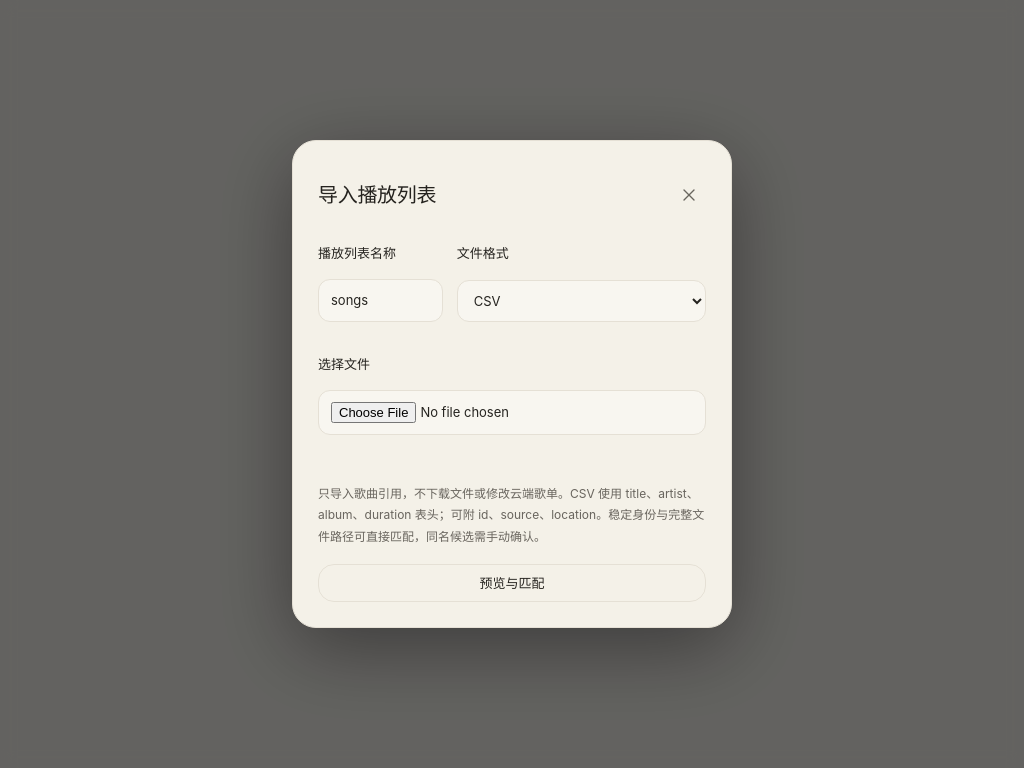
Test: 导入只自动选择准确身份，候选需手动确认，失败可保留选择重试
This screenshot has width=1024, height=768.
Earlier steps of the test are not shown.
Later steps or results of the test are not shown.
Click the button "预览与匹配" at (512, 583), box [318, 564, 706, 602]
(page scrolled)
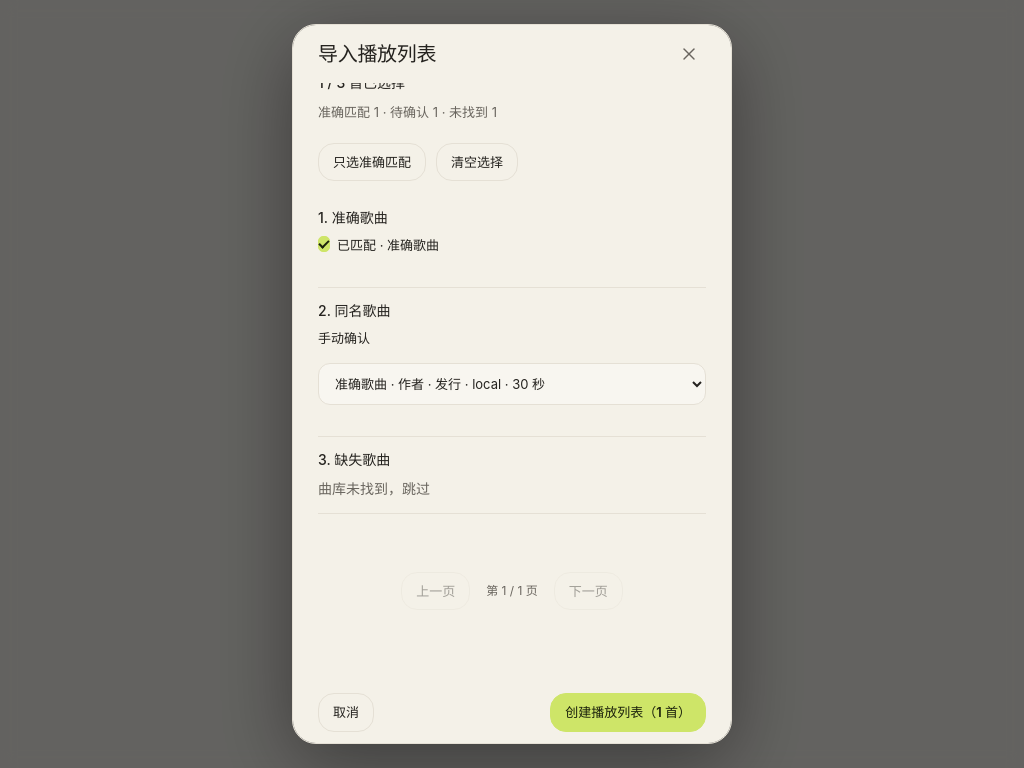
Expected: the text "1 / 3 首已选择" is shown, [318, 74, 405, 92]
Select "准确歌曲 · 作者 · 发行 · local · 30 秒" in the dropdown named "确认第 2 首" at (512, 384), box [318, 363, 706, 405]
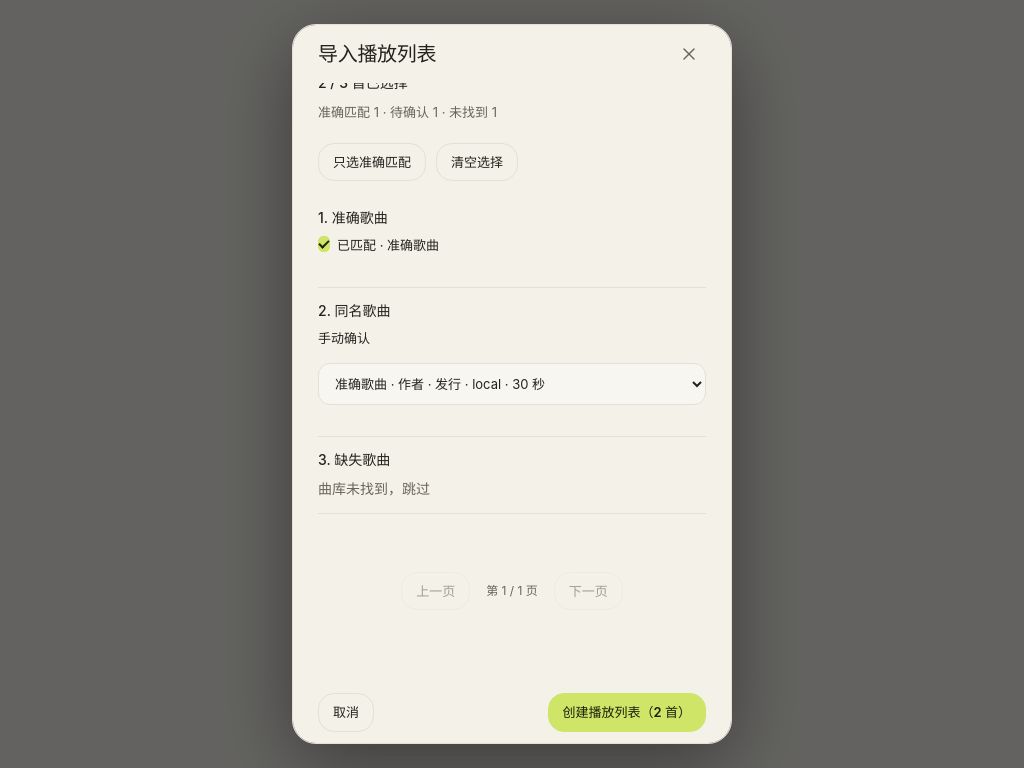
Expected: the button "创建播放列表（2 首）" is shown
Click the button "创建播放列表（2 首）" at (627, 712), box [548, 693, 706, 732]
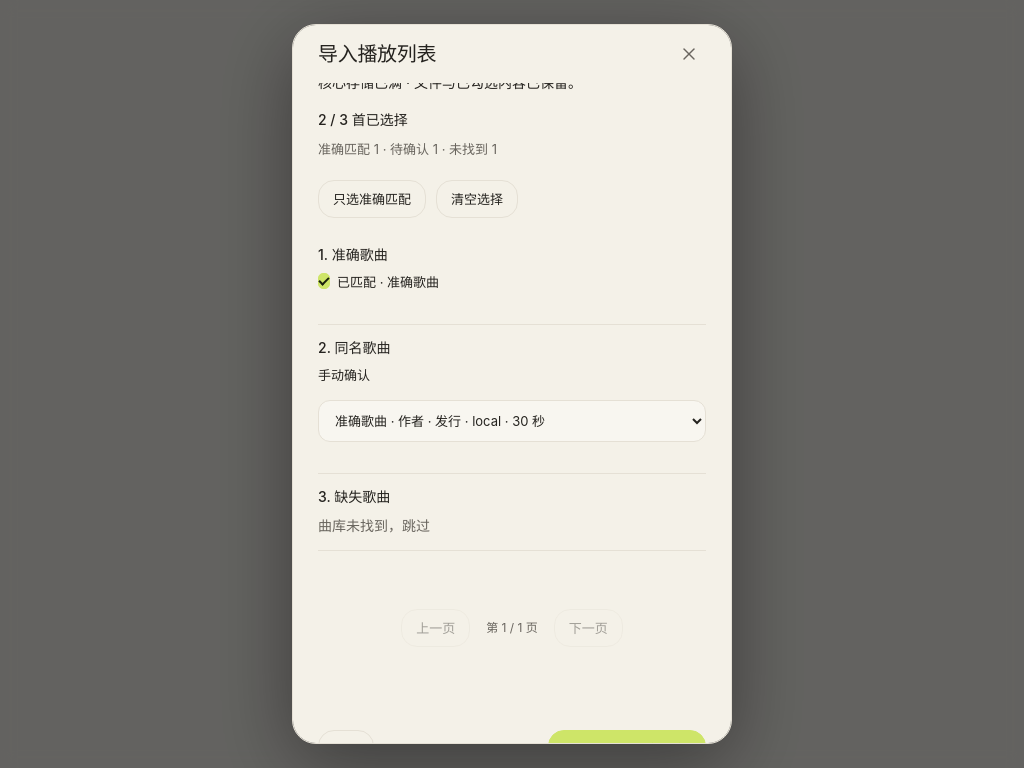
Expected: the text "核心存储已满" is shown, [318, 74, 402, 92]
